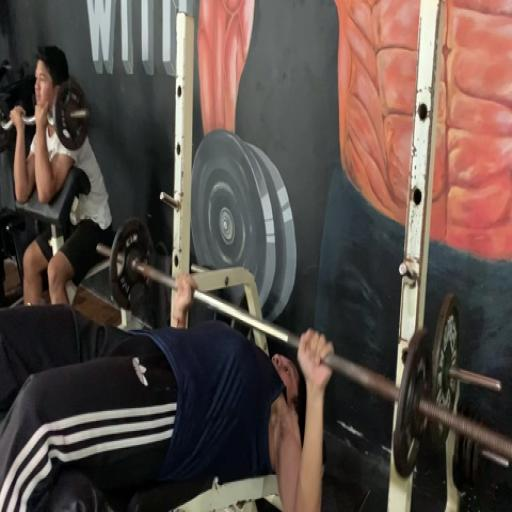exercise: (0, 272, 336, 510), (6, 42, 116, 308)
